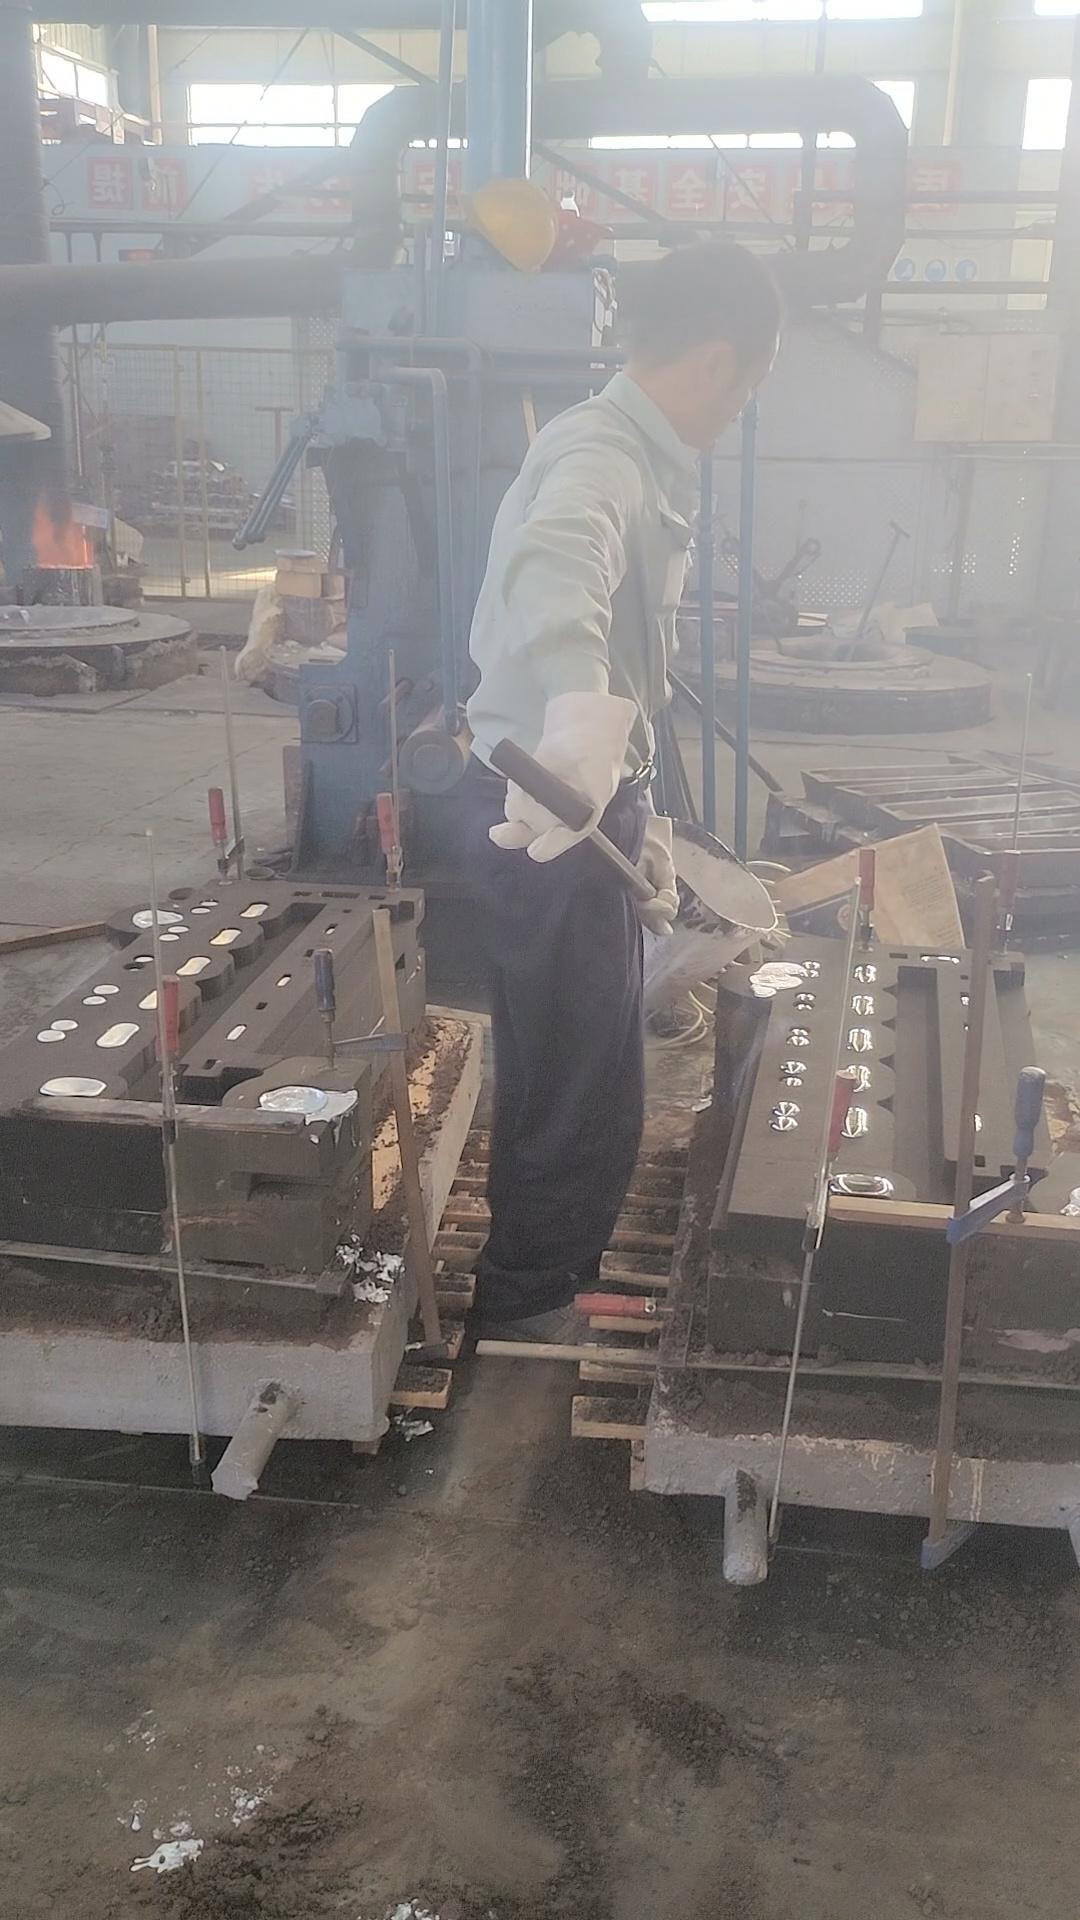pouring hole: (258, 1087, 324, 1114), (749, 969, 793, 990), (133, 909, 179, 927), (1062, 1184, 1080, 1216), (167, 886, 198, 901), (243, 866, 276, 880)
